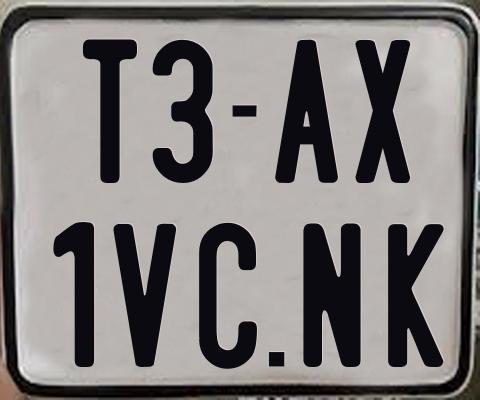1: (50, 222, 96, 370)
3: (149, 40, 215, 184)
A: (272, 38, 341, 185)
C: (198, 223, 259, 373)
K: (388, 222, 444, 367)
N: (301, 220, 364, 368)
T: (81, 39, 140, 183)
V: (111, 221, 180, 369)
X: (355, 39, 414, 188)
